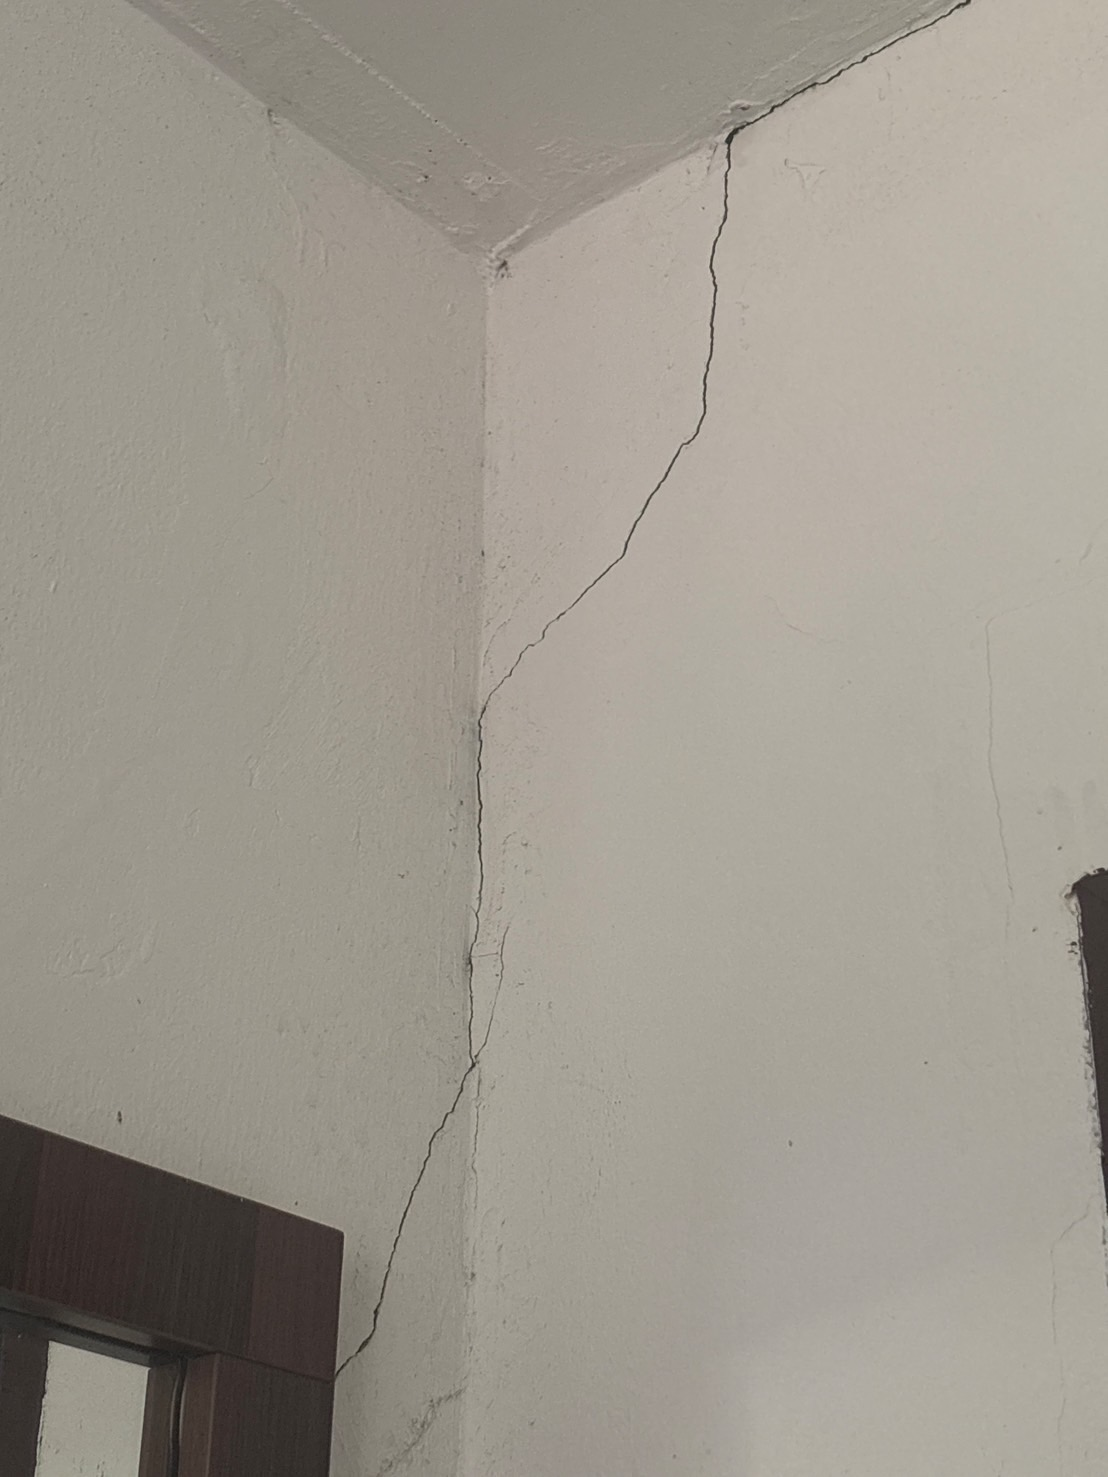Low: (350, 119, 798, 1382)
